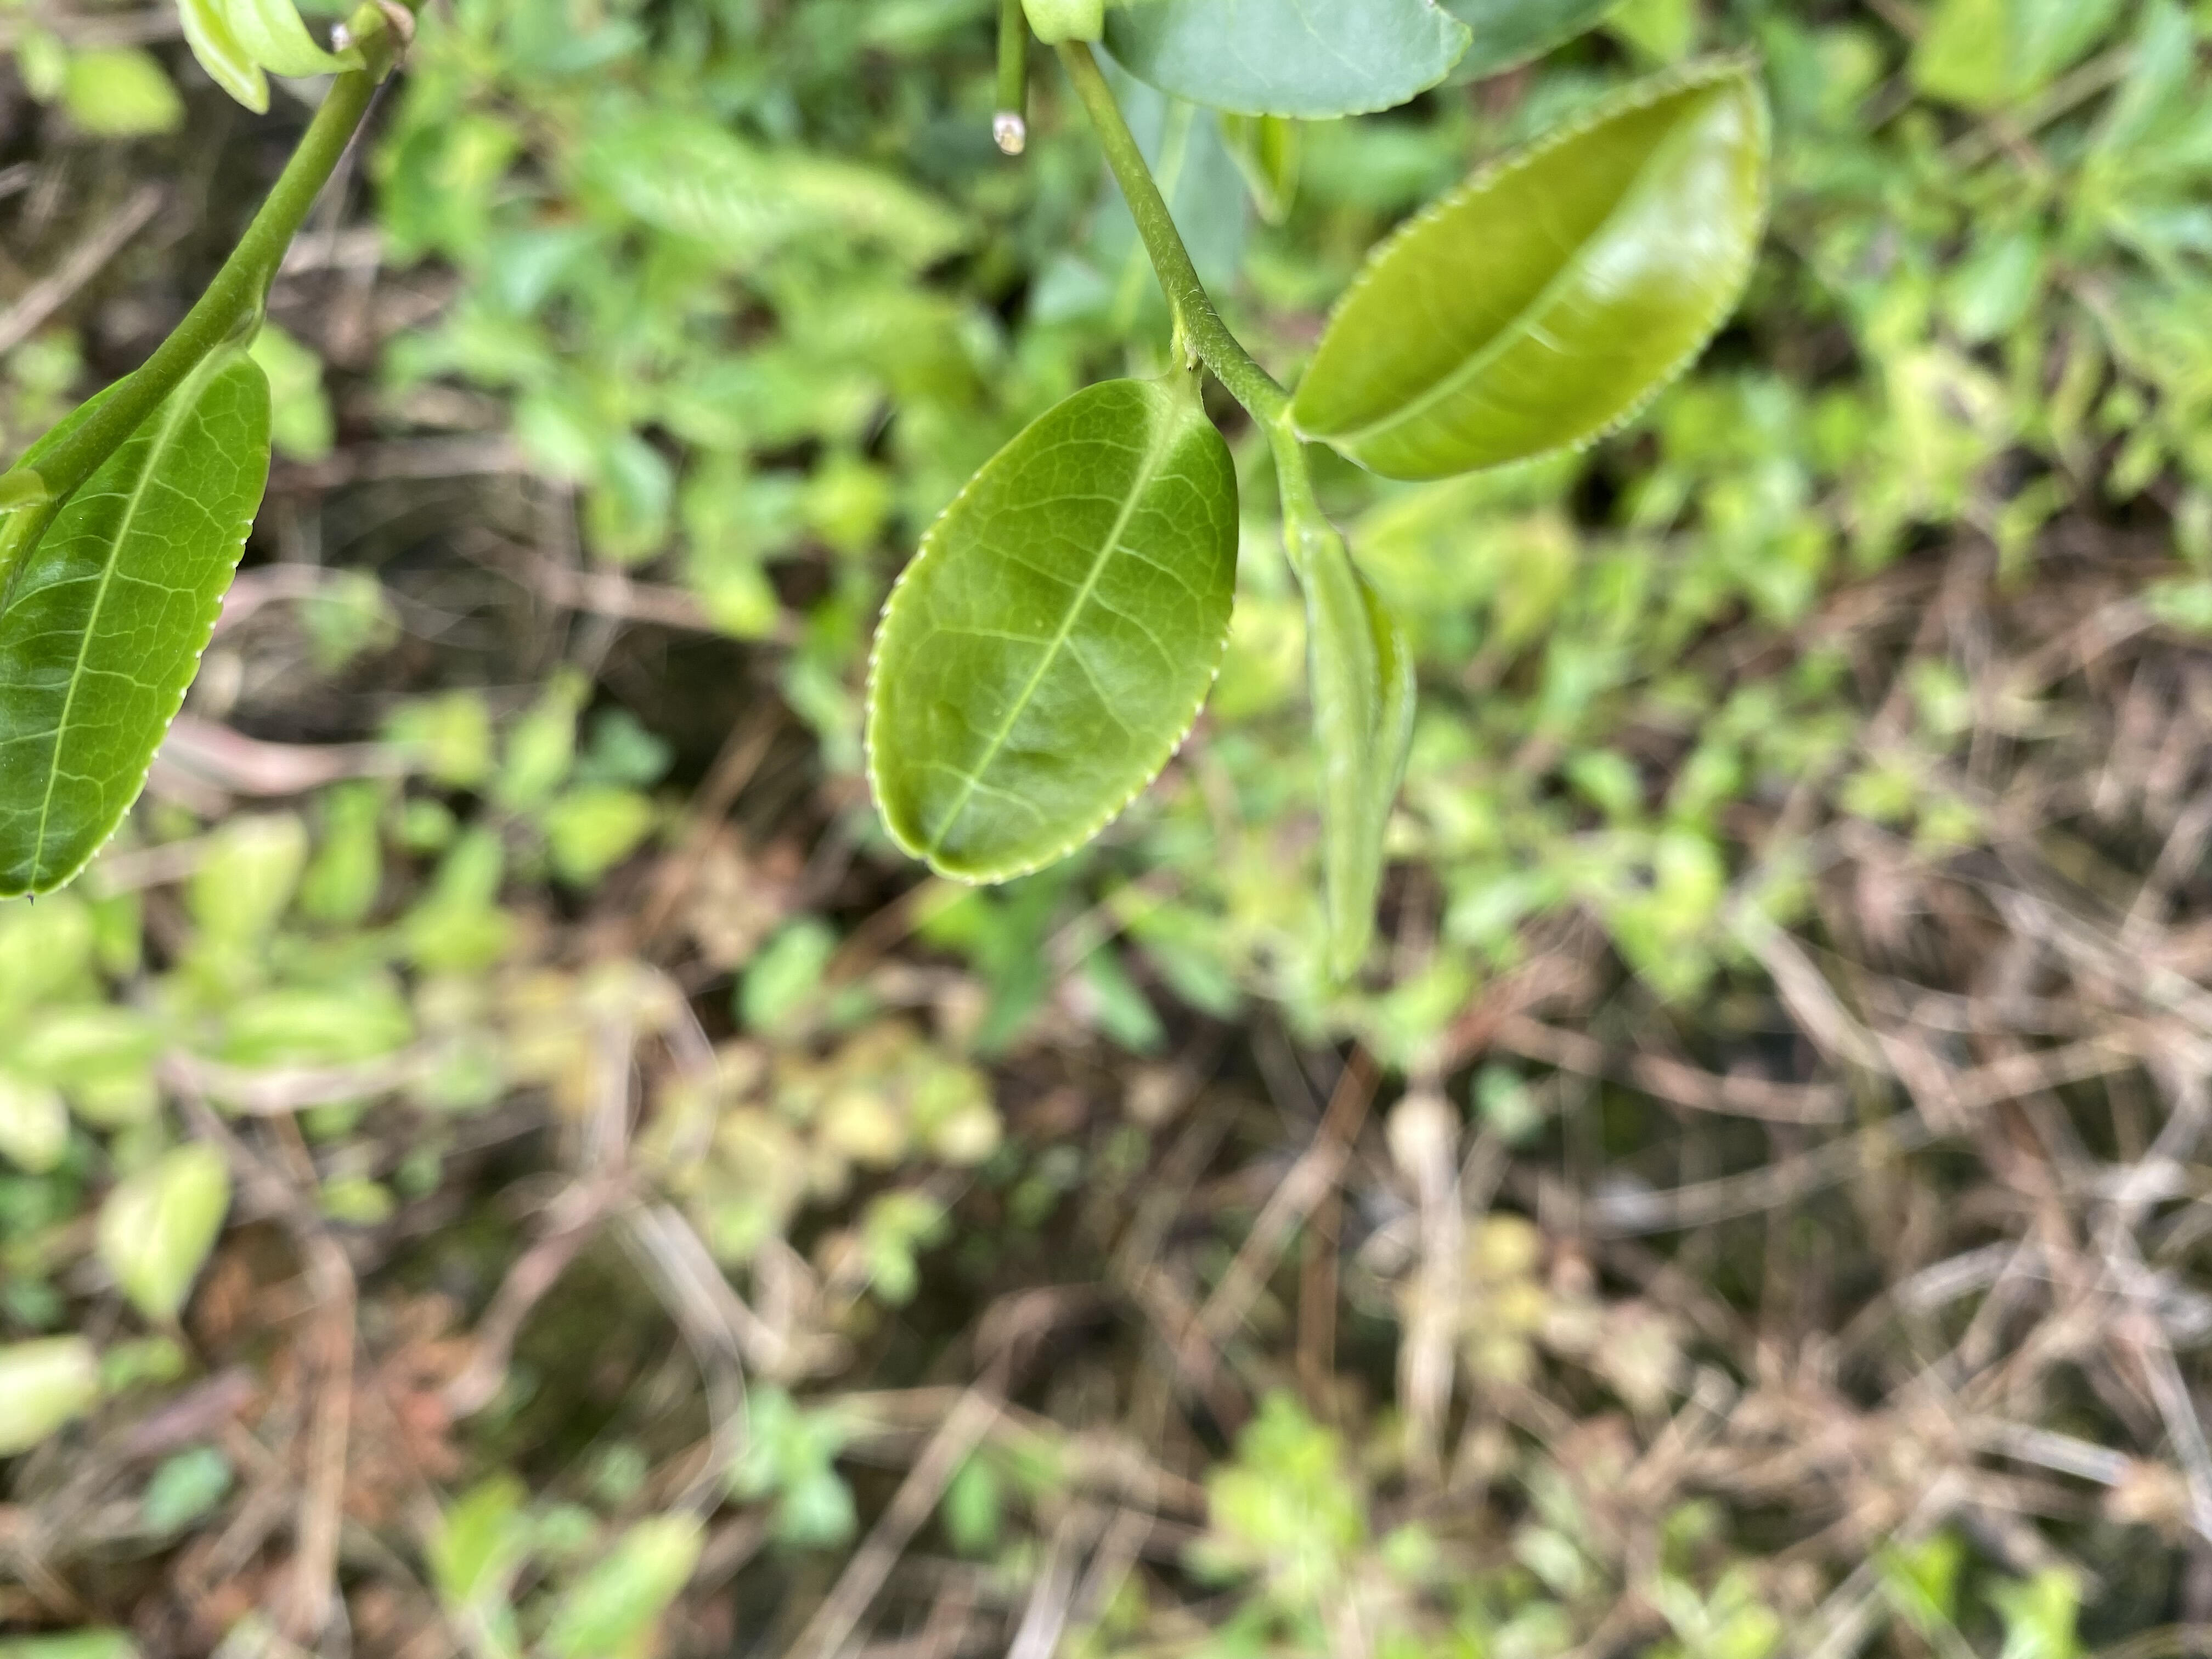healthy: (859, 376, 1240, 887), (1299, 70, 1771, 479), (5, 354, 277, 910)
